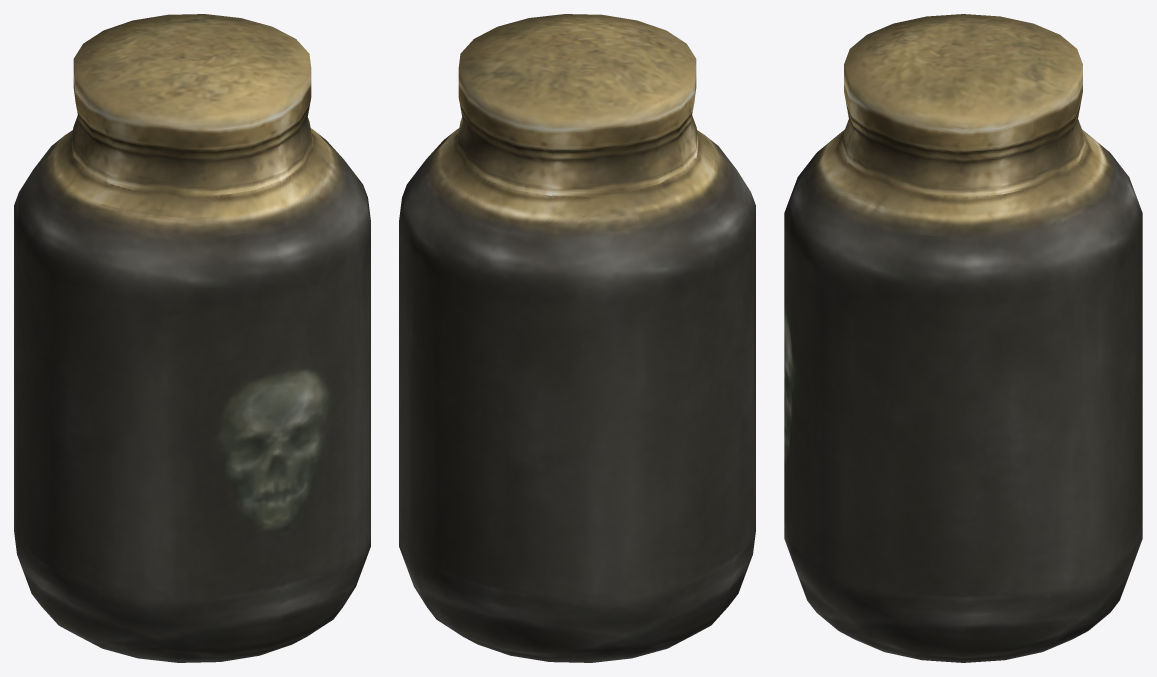
The model's file is item_mm9_10358.glb.
The picture shows the model from 3 angles, left to right: view 1: azimuth 30°, elevation 25°; view 2: azimuth 150°, elevation 25°; view 3: azimuth 270°, elevation 25°; orthographic projection.
Visible parts, largest first — view 1: d10358; view 2: d10358; view 3: d10358.
Part boxes in pixels (bbox=[...]): d10358: bbox=[14, 14, 370, 662]; d10358: bbox=[399, 14, 755, 662]; d10358: bbox=[784, 14, 1142, 662].
Size of the model in its own units: 57.6 by 102 by 57.6.
1 material, 1 textured.
